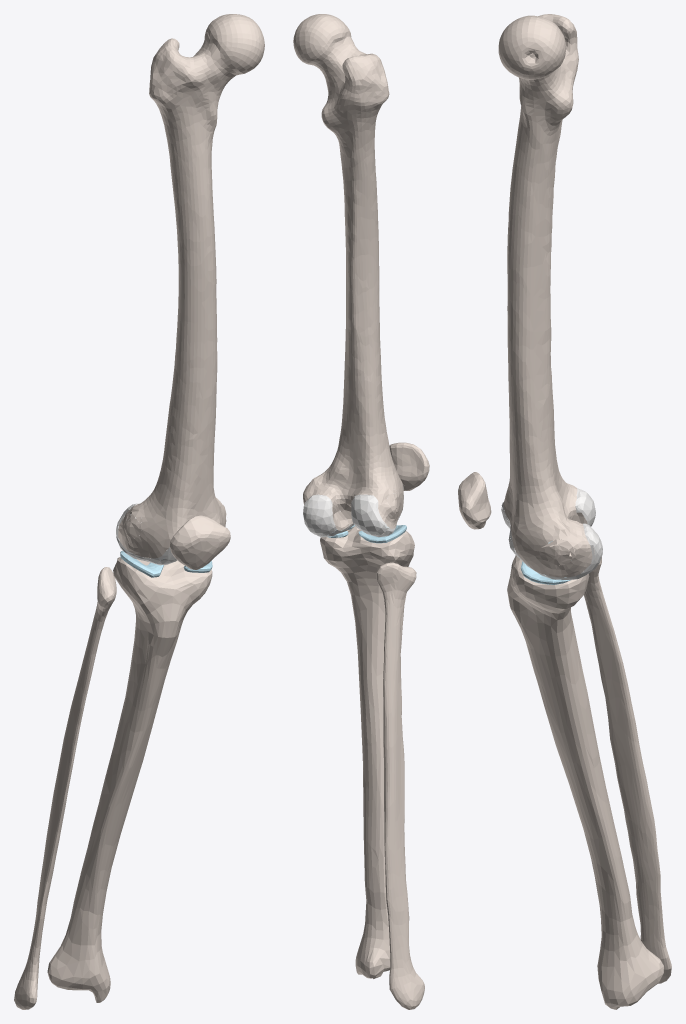
Rendered from VH_M_Knee_R_0.4.glb.
3 views of the same model, side by side, from view 1: azimuth 30°, elevation 25°; view 2: azimuth 150°, elevation 25°; view 3: azimuth 270°, elevation 25° (orthographic). The views are drawn at different scales.
Parts seen in each view (by area): view 1: VH_M_femur_R, VH_M_tibia_R, VH_M_fibula_R, VH_M_patella_R, VH_M_meniscus_R; view 2: VH_M_femur_R, VH_M_tibia_R, VH_M_fibula_R, VH_M_patella_R, VH_M_medial_condyle_of_right_femur_inf, VH_M_lateral_condyle_of_femur_inf_R, VH_M_meniscus_R, VH_M_articular_cartilage_of_knee_R; view 3: VH_M_femur_R, VH_M_tibia_R, VH_M_fibula_R, VH_M_patella_R, VH_M_articular_cartilage_of_knee_R.
Boxes of the visible parts, x1=… form: VH_M_femur_R: x1=118, y1=14, x2=264, y2=558; VH_M_tibia_R: x1=47, y1=557, x2=212, y2=1002; VH_M_fibula_R: x1=14, y1=567, x2=116, y2=1009; VH_M_patella_R: x1=170, y1=515, x2=230, y2=569; VH_M_meniscus_R: x1=120, y1=550, x2=212, y2=577; VH_M_femur_R: x1=293, y1=14, x2=403, y2=528; VH_M_tibia_R: x1=320, y1=526, x2=414, y2=978; VH_M_fibula_R: x1=376, y1=562, x2=424, y2=1009; VH_M_patella_R: x1=389, y1=442, x2=429, y2=490; VH_M_medial_condyle_of_right_femur_inf: x1=303, y1=495, x2=336, y2=535; VH_M_lateral_condyle_of_femur_inf_R: x1=351, y1=495, x2=387, y2=534; VH_M_meniscus_R: x1=328, y1=525, x2=406, y2=543; VH_M_articular_cartilage_of_knee_R: x1=314, y1=484, x2=403, y2=537; VH_M_femur_R: x1=498, y1=14, x2=592, y2=577; VH_M_tibia_R: x1=507, y1=540, x2=663, y2=1009; VH_M_fibula_R: x1=583, y1=545, x2=671, y2=983; VH_M_patella_R: x1=458, y1=472, x2=491, y2=529; VH_M_articular_cartilage_of_knee_R: x1=501, y1=488, x2=594, y2=579.
Bounding box in the file's own units: 0.1735 × 0.8875 × 0.1646.
